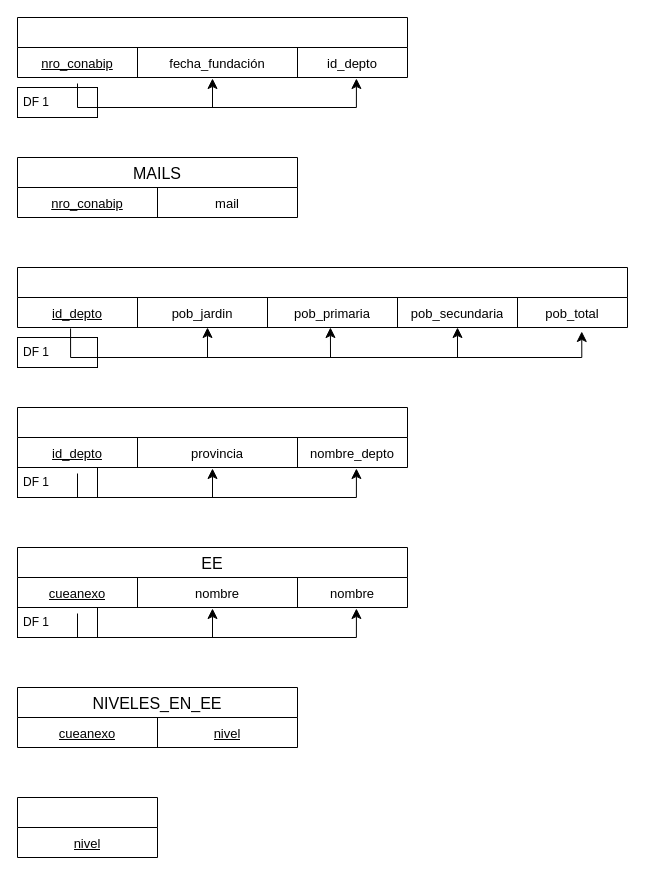
The diagram is 645 pixels wide and 875 high, and some of its shapes have lost their labels. The box of each missing label's shape, as (x1, y1, x2, y2) in pixels:
BP: (16, 16, 408, 78)
DEPARTAMENTO: (16, 406, 408, 468)
NIVELES: (16, 796, 158, 858)
POBLACIÓN: (16, 266, 628, 328)
